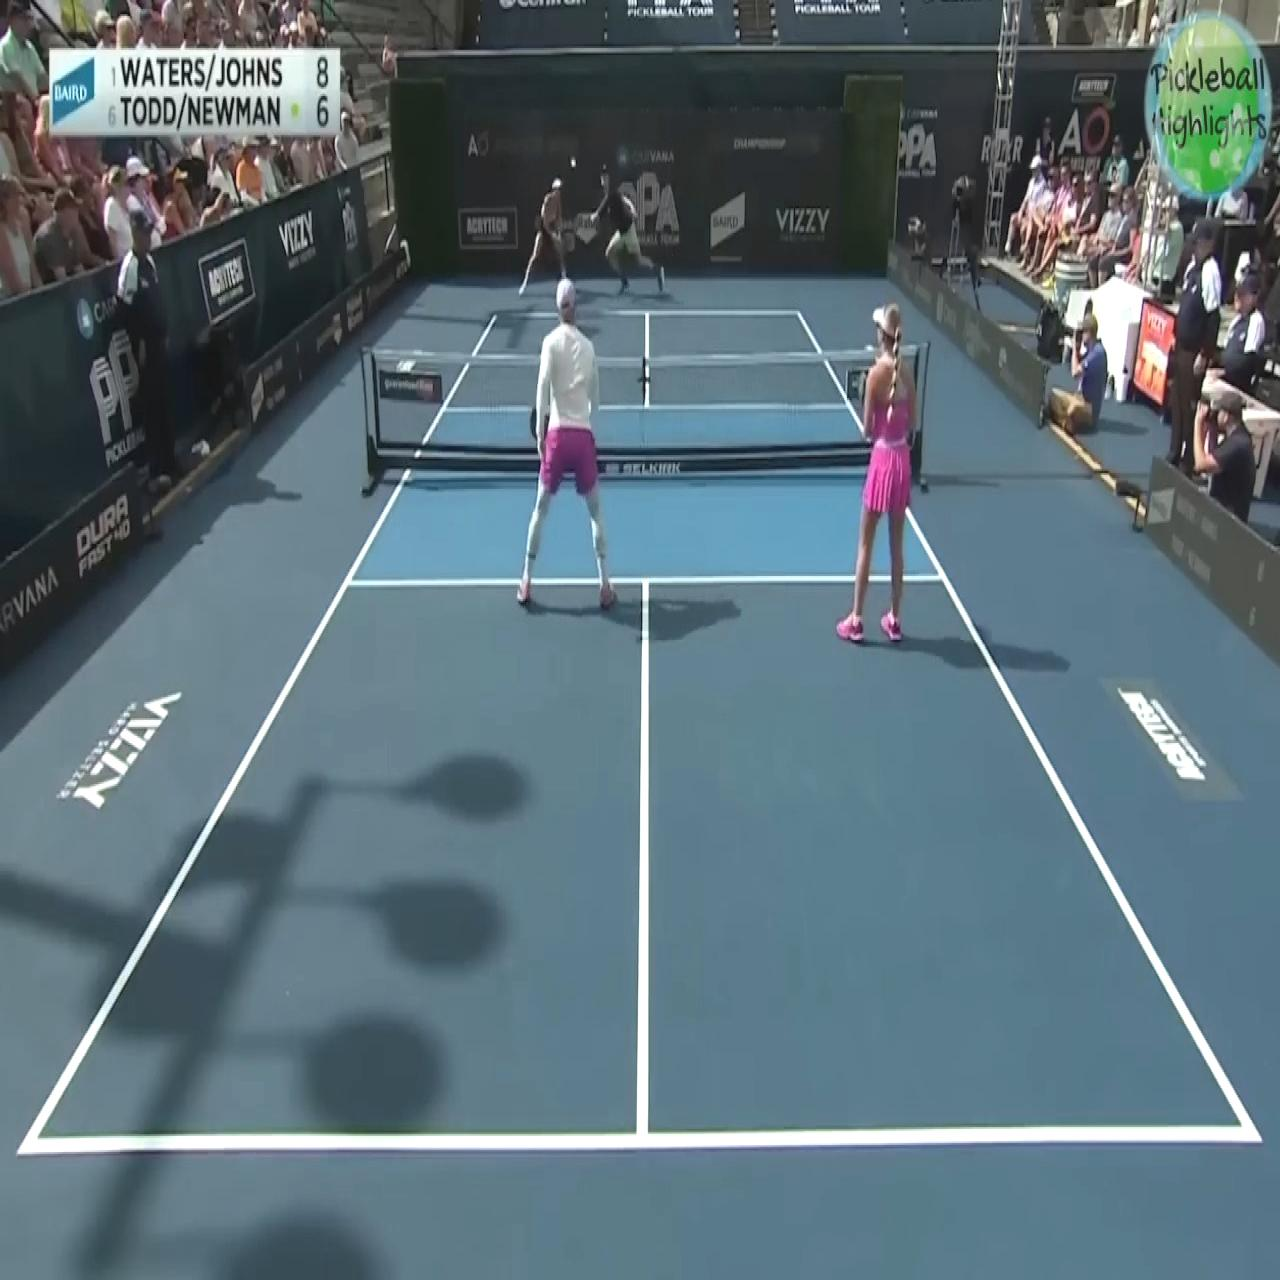Pickleball: (568, 155, 579, 172)
